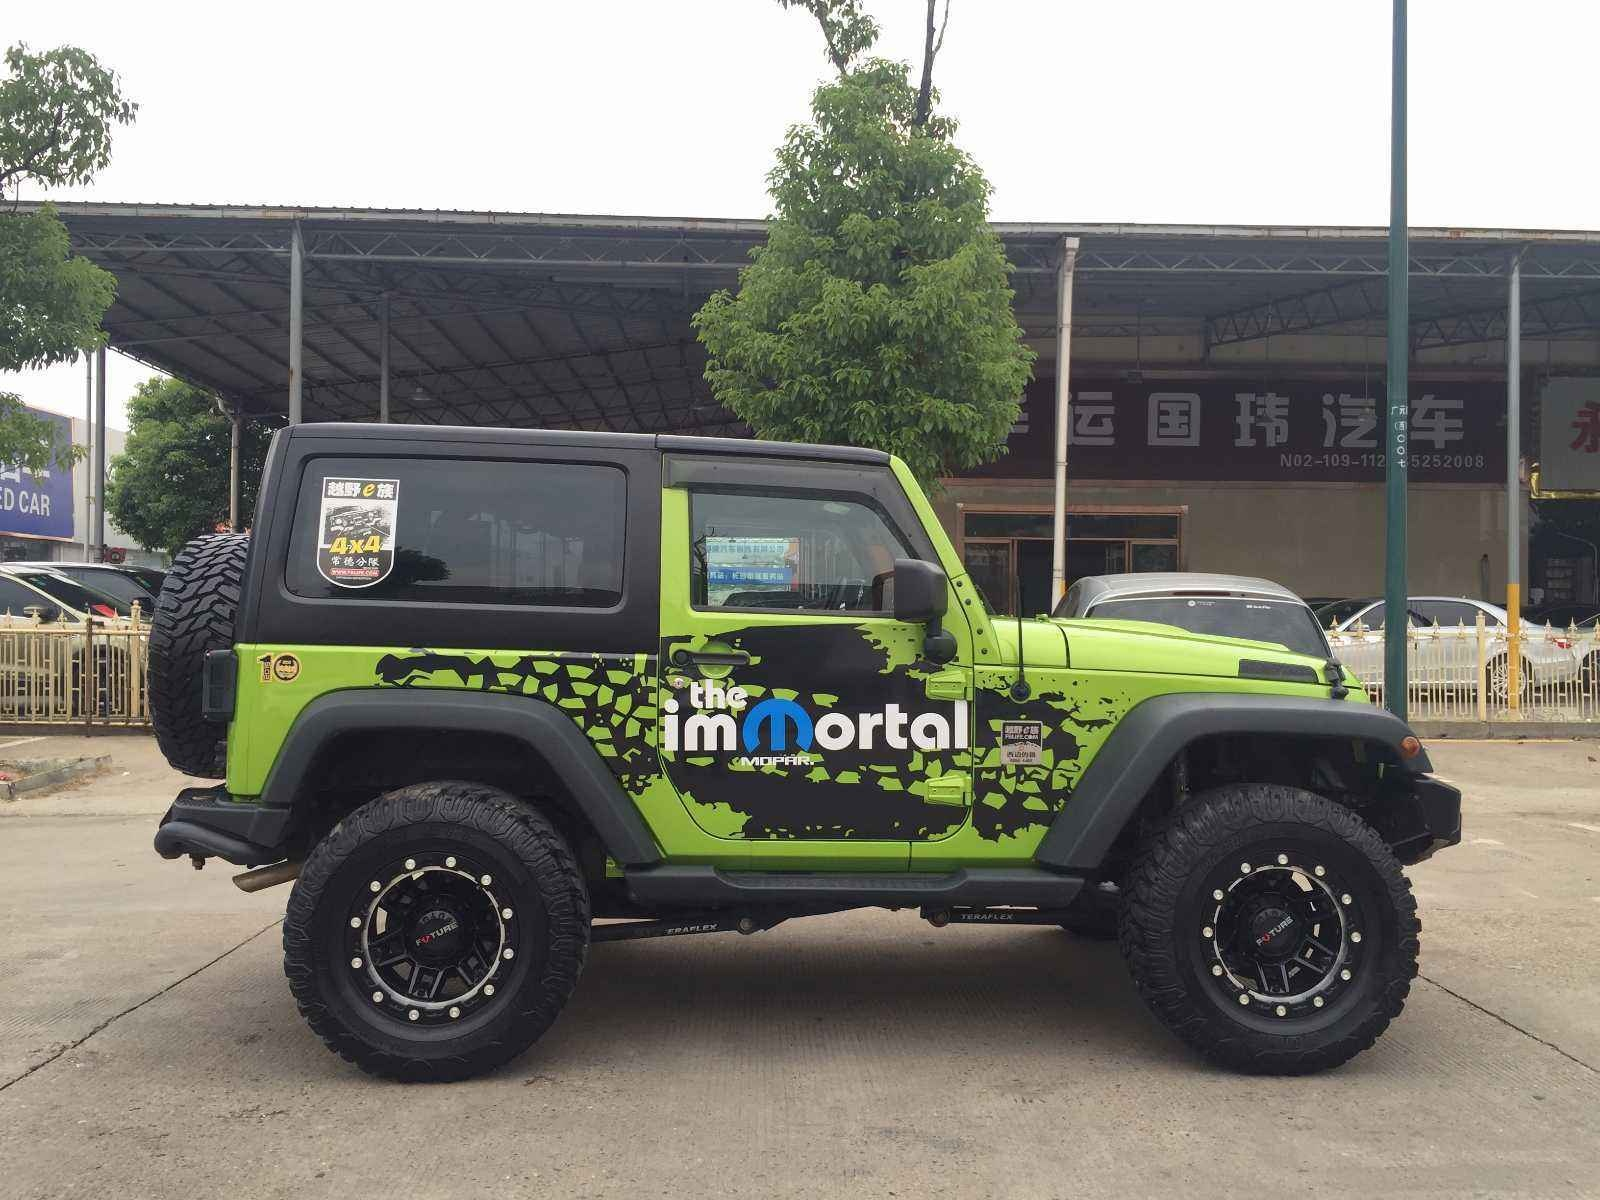jeep: (136, 381, 1459, 1116)
